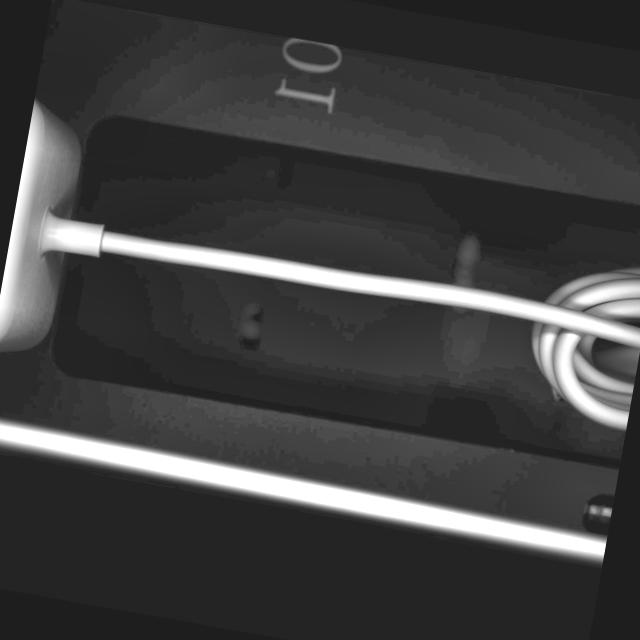Cable: (0, 93, 640, 472)
